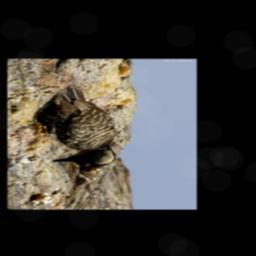Woodpecker: (34, 83, 117, 168)
